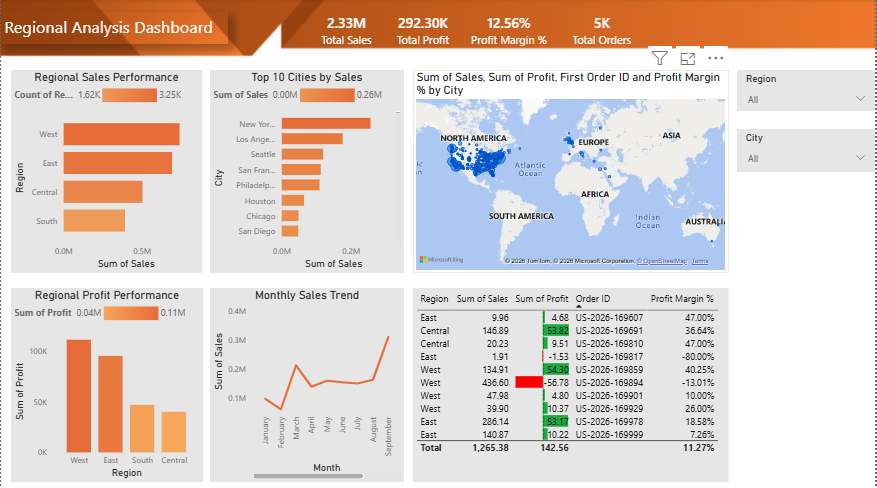

The dashboard page shown, as its layout file describes it:
{"tool":"powerbi","page":{"name":"Page 4","canvas":[1280,720],"ordinal":3},"visuals":[{"type":"barChart","title":"Regional Sales Performance ","fields":{"Category":["samplesuperstore.Region"],"Y":["Sum(samplesuperstore.Sales)"]},"box":[14.6,103.9,279.5,297.1],"z":0},{"type":"columnChart","title":"Regional Profit Performance","fields":{"Category":["samplesuperstore.Region"],"Y":["Sum(samplesuperstore.Profit)"]},"box":[14.6,422.9,281,283.9],"z":1000},{"type":"barChart","title":"Top 10 Cities by Sales  ","fields":{"Category":["samplesuperstore.City"],"Y":["Sum(samplesuperstore.Sales)"]},"box":[305.9,103.9,283.9,297.1],"z":2000},{"type":"lineChart","title":"  Monthly Sales Trend","fields":{"Category":["samplesuperstore.Order Date.Variation.Date Hierarchy.Month"],"Y":["Sum(samplesuperstore.Sales)"]},"box":[305.9,422.9,283.9,283.9],"z":3000},{"type":"tableEx","fields":{"Values":["samplesuperstore.Region","Sum(samplesuperstore.Sales)","Sum(samplesuperstore.Profit)","samplesuperstore.Order ID","samplesuperstore.Profit Margin %"]},"box":[602.9,422.9,462.4,283.9],"z":4000},{"type":"map","fields":{"Category":["samplesuperstore.City"],"Size":["Sum(samplesuperstore.Sales)"]},"box":[602.9,103.9,462.4,297.1],"z":5000},{"type":"textbox","box":[0,19,332.2,46.8],"z":6000},{"type":"slicer","fields":{"Values":["samplesuperstore.Region"]},"box":[1077.1,103.9,203.4,60],"z":7000},{"type":"slicer","fields":{"Values":["samplesuperstore.City"]},"box":[1077.1,190.2,203.4,62.9],"z":8000},{"type":"cardVisual","fields":{"Data":["samplesuperstore.Total Sales"]},"box":[421.5,0,168.3,89.3],"z":9000},{"type":"cardVisual","fields":{"Data":["samplesuperstore.Total Profit"]},"box":[526.8,0,181.5,89.3],"z":10000},{"type":"cardVisual","fields":{"Data":["samplesuperstore.Profit Margin %"]},"box":[652.7,0,181.5,89.3],"z":11000},{"type":"cardVisual","fields":{"Data":["samplesuperstore.Total Orders"]},"box":[788.8,0,181.5,89.3],"z":12000}]}

Visuals, with their boxes in screenshot pixels (x1, y1, x2, y2), scaled from the page's 1280x720 canvas onto the 877x488 screenshot:
"Regional Sales Performance " barChart: {"x1": 10, "y1": 70, "x2": 202, "y2": 272}
"Regional Profit Performance" columnChart: {"x1": 10, "y1": 287, "x2": 203, "y2": 479}
"Top 10 Cities by Sales  " barChart: {"x1": 210, "y1": 70, "x2": 404, "y2": 272}
"  Monthly Sales Trend" lineChart: {"x1": 210, "y1": 287, "x2": 404, "y2": 479}
tableEx - samplesuperstore.Region x Sum(samplesuperstore.Sales): {"x1": 413, "y1": 287, "x2": 730, "y2": 479}
map - samplesuperstore.City x Sum(samplesuperstore.Sales): {"x1": 413, "y1": 70, "x2": 730, "y2": 272}
textbox: {"x1": 0, "y1": 13, "x2": 228, "y2": 45}
slicer - samplesuperstore.Region: {"x1": 738, "y1": 70, "x2": 876, "y2": 111}
slicer - samplesuperstore.City: {"x1": 738, "y1": 129, "x2": 876, "y2": 172}
cardVisual - samplesuperstore.Total Sales: {"x1": 289, "y1": 0, "x2": 404, "y2": 61}
cardVisual - samplesuperstore.Total Profit: {"x1": 361, "y1": 0, "x2": 485, "y2": 61}
cardVisual - samplesuperstore.Profit Margin %: {"x1": 447, "y1": 0, "x2": 572, "y2": 61}
cardVisual - samplesuperstore.Total Orders: {"x1": 540, "y1": 0, "x2": 665, "y2": 61}
